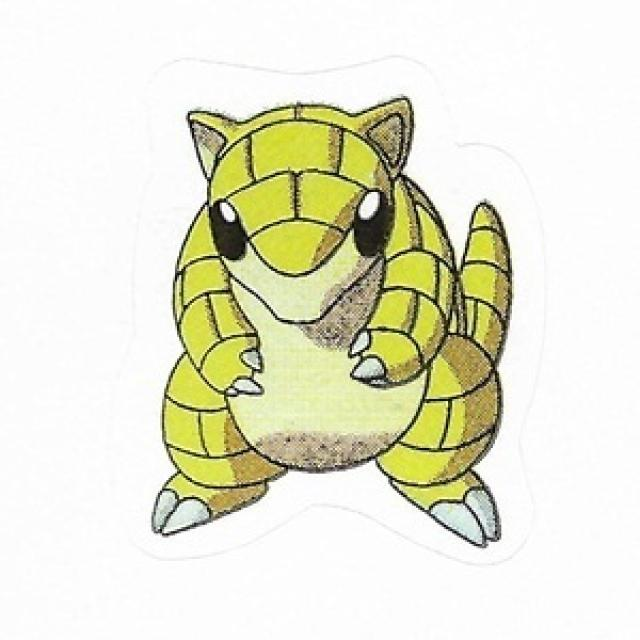Sandshrew: (135, 81, 522, 568)
